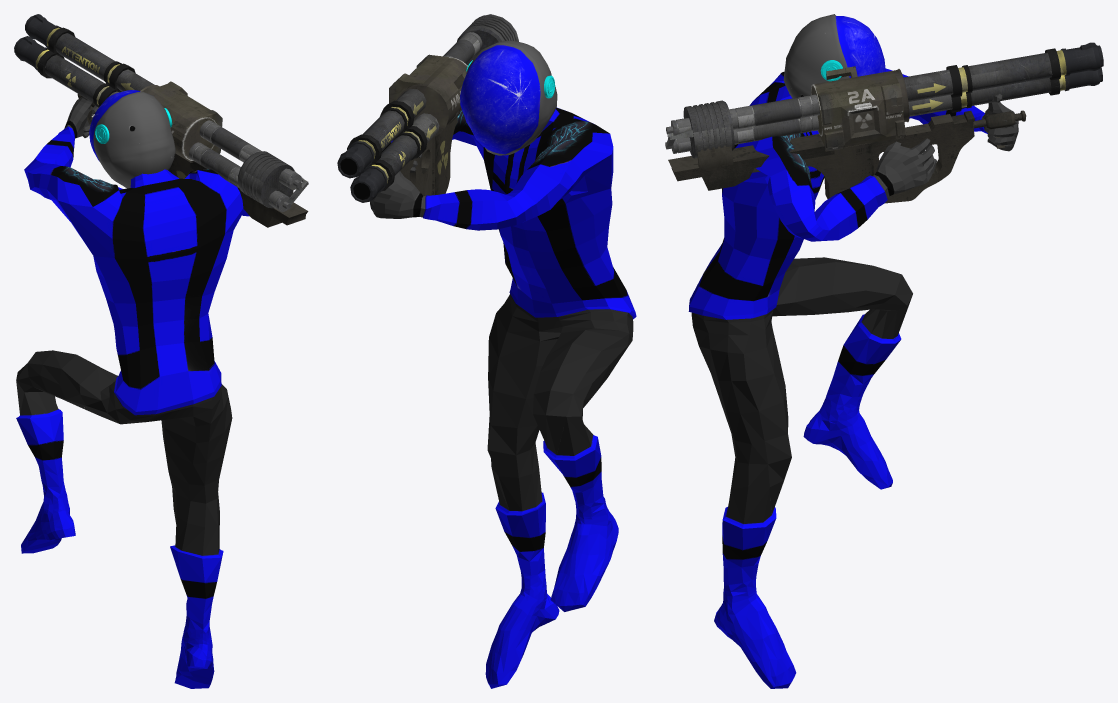
3 renders of one model, left to right at view 1: azimuth 30°, elevation 25°; view 2: azimuth 150°, elevation 25°; view 3: azimuth 270°, elevation 25°, orthographic. The views are drawn at different scales.
Visible parts, largest first — view 1: Brazos2, Piernas1, group1_polySurface5, Cabeza1; view 2: Piernas1, Brazos2, group1_polySurface5, Cabeza1; view 3: Piernas1, group1_polySurface5, Brazos2, Cabeza1.
Part boxes in pixels (box(x1,y1,x2,y2)): Brazos2: box(24, 97, 249, 415); Piernas1: box(16, 350, 232, 688); group1_polySurface5: box(14, 14, 308, 227); Cabeza1: box(89, 90, 175, 188); Piernas1: box(485, 294, 633, 688); Brazos2: box(370, 107, 636, 319); group1_polySurface5: box(337, 14, 518, 202); Cabeza1: box(460, 40, 557, 155); Piernas1: box(691, 257, 912, 688); group1_polySurface5: box(665, 42, 1103, 203); Brazos2: box(688, 68, 1018, 319); Cabeza1: box(783, 14, 885, 98).
Bounding box in the file's own units: 75.38 × 182 × 111.
